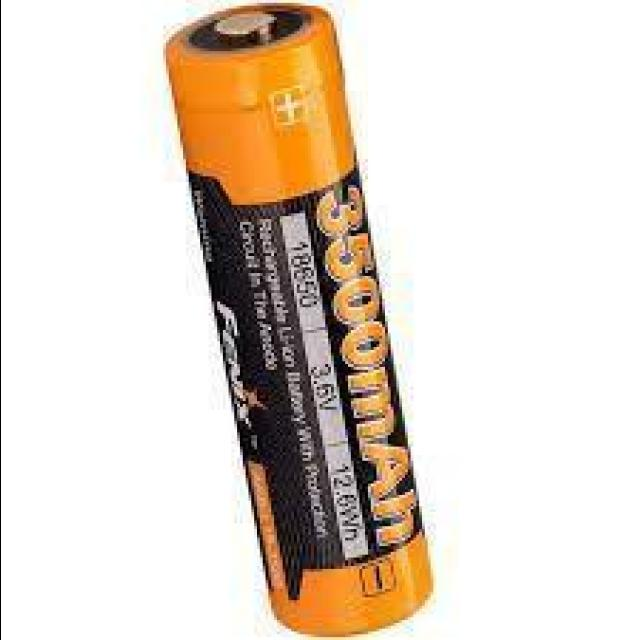AA: (157, 1, 440, 637)
